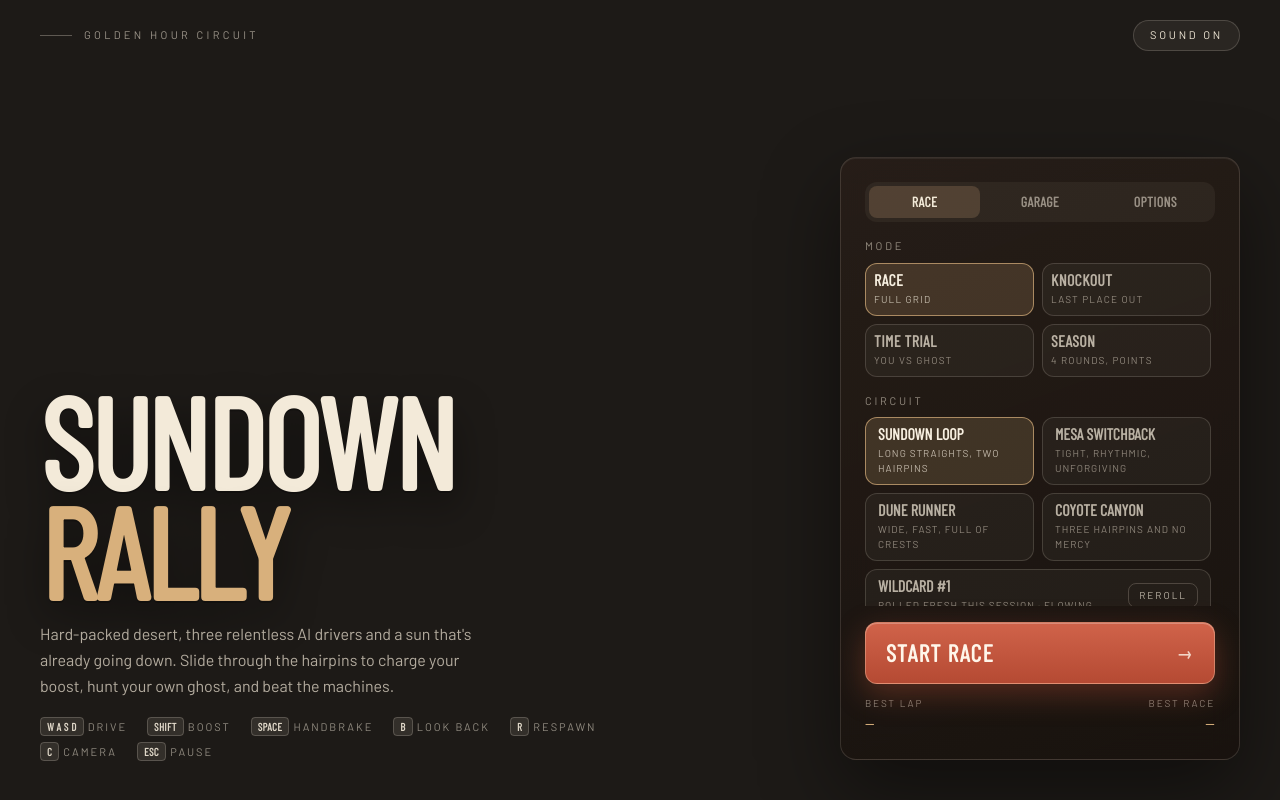
Scenario: screens render without crashing › shows the garage with credits and buyable upgrades
Click the button "Garage".
click(1040, 202)  # box [984, 186, 1096, 218]
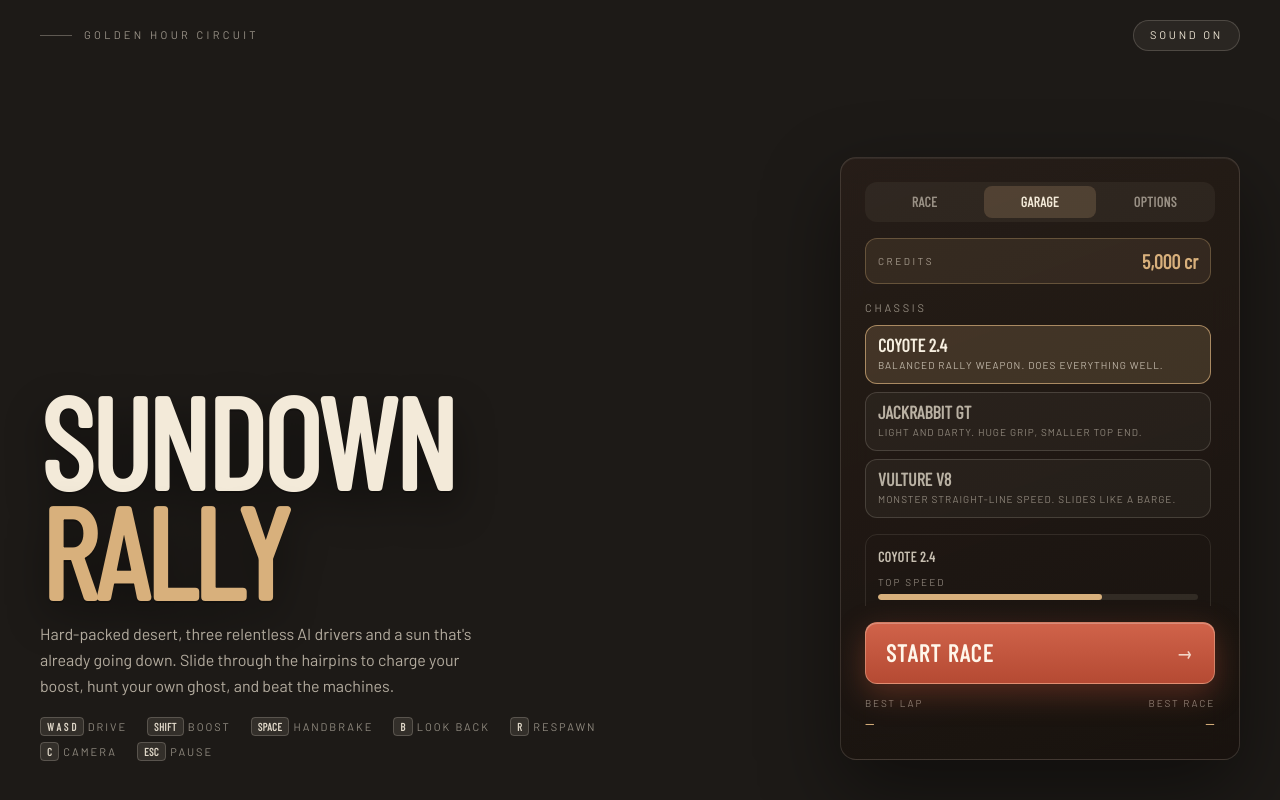
Now the text "5,000 cr" is shown, box [1142, 247, 1198, 275]
